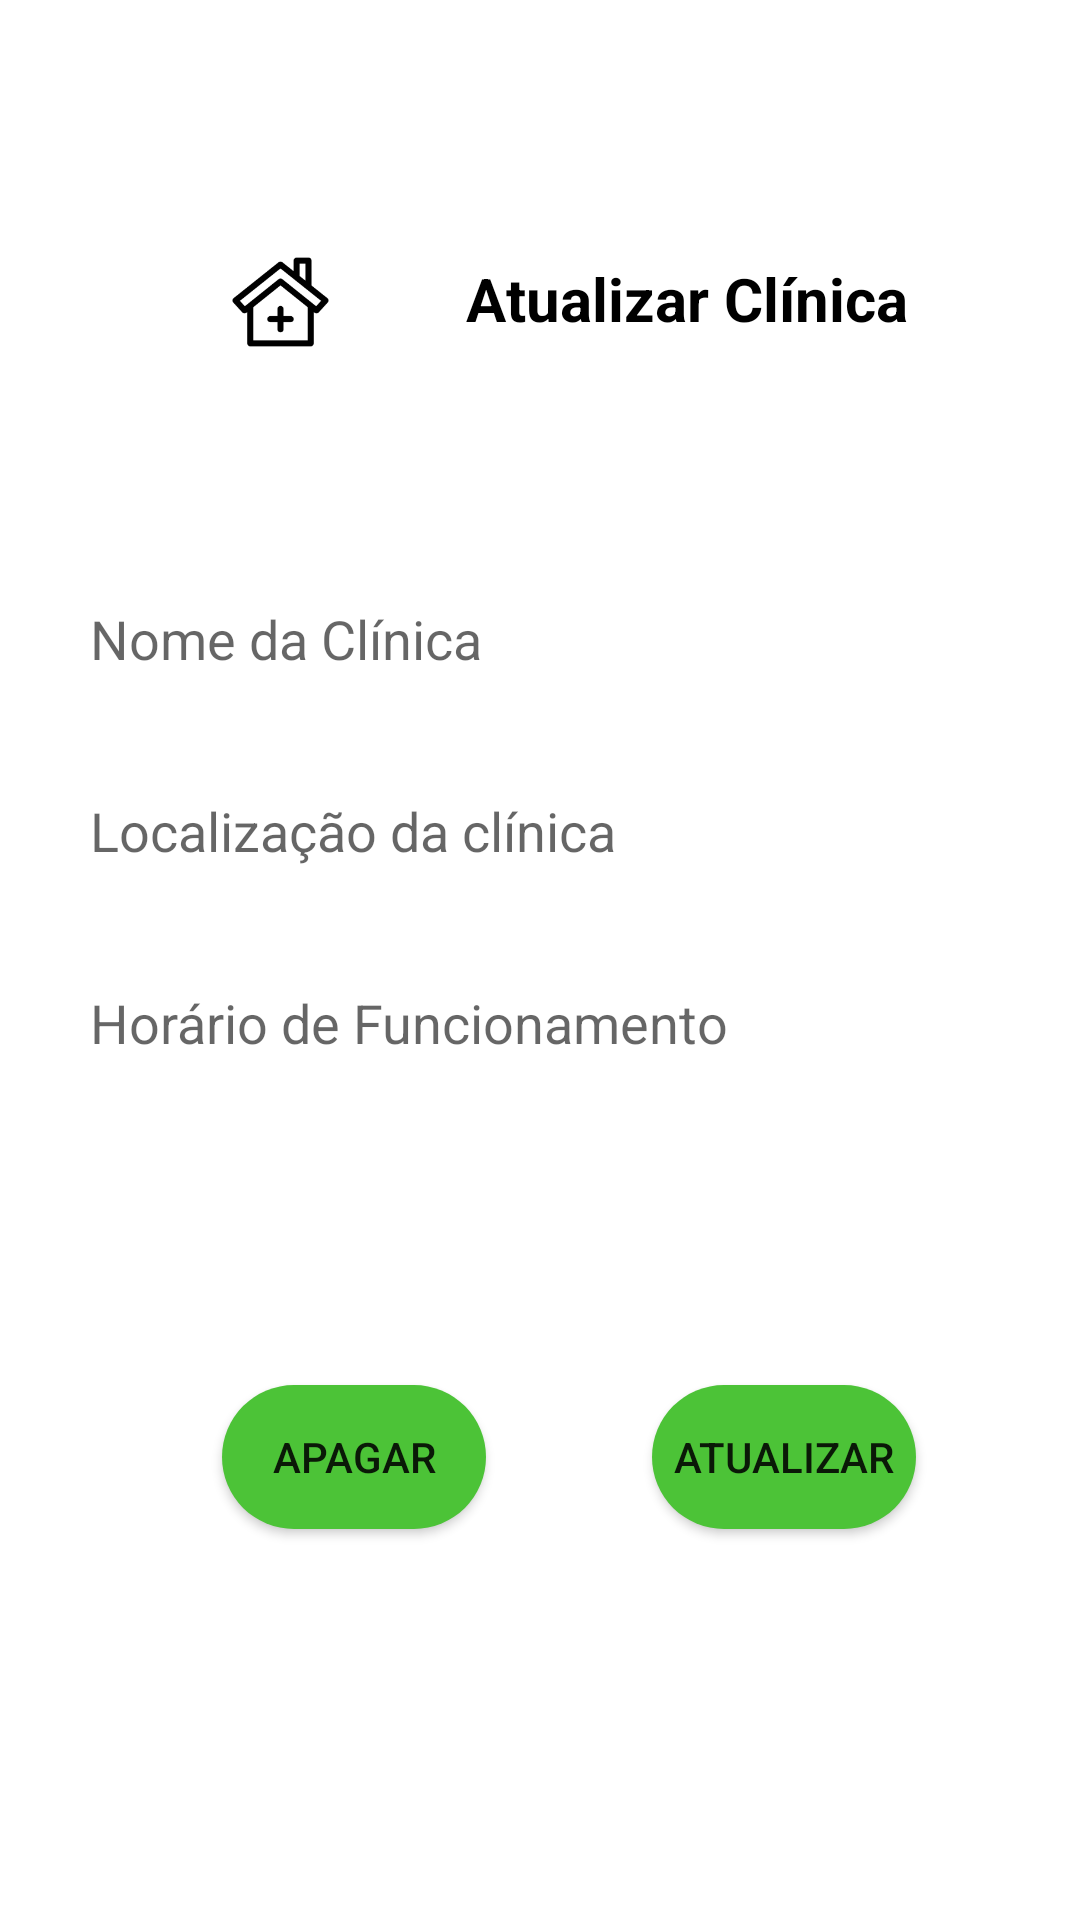

Locate icon controls on the screen. Image size 1080*1920, boxes as (x1, y1, x2, y2).
clinica: (232, 257, 329, 347)
